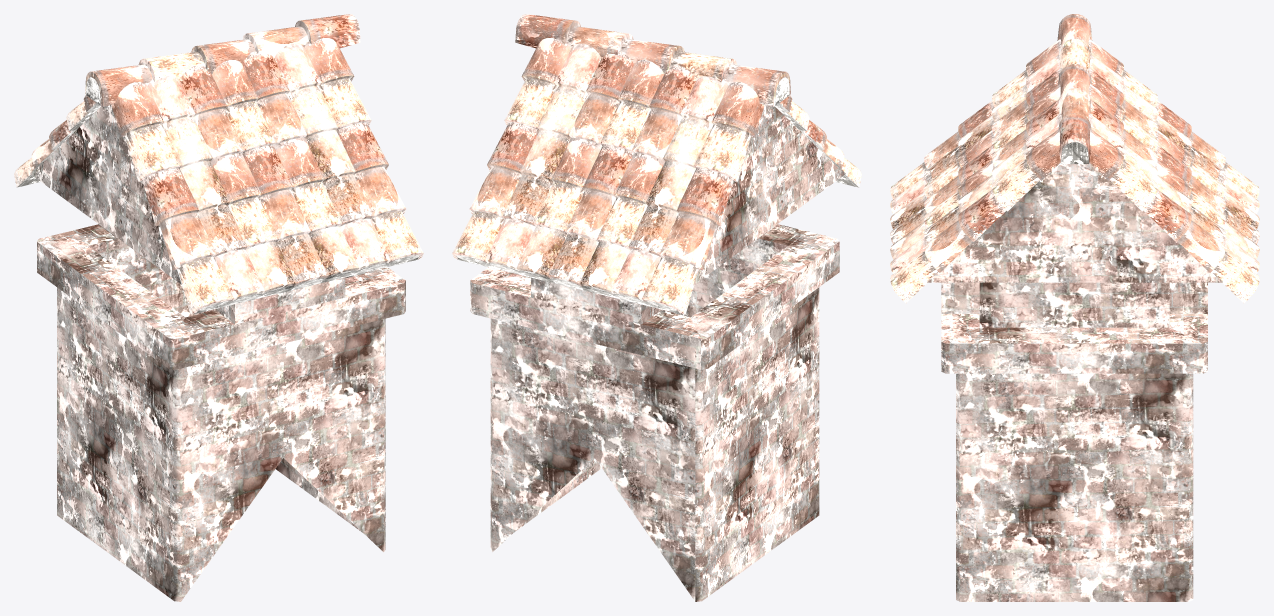
File: SM_chimney_02.fbx
3 views of the same model, side by side, from view 1: azimuth 30°, elevation 25°; view 2: azimuth 150°, elevation 25°; view 3: azimuth 270°, elevation 25° (orthographic). The views are drawn at different scales.
Parts seen in each view (by area): view 1: SM_chimney_02_LOD0; view 2: SM_chimney_02_LOD0; view 3: SM_chimney_02_LOD0.
Part boxes in pixels (x1=…): SM_chimney_02_LOD0: x1=14, y1=14, x2=423, y2=601; SM_chimney_02_LOD0: x1=452, y1=14, x2=861, y2=601; SM_chimney_02_LOD0: x1=890, y1=14, x2=1259, y2=601.
Size of the model in its own units: 250 by 316 by 452.
Materials: 3 (3 with a texture image).
